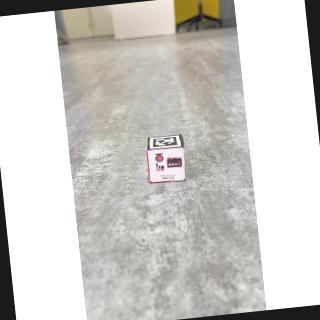Expired_Cosmetic: (148, 148, 186, 184)
